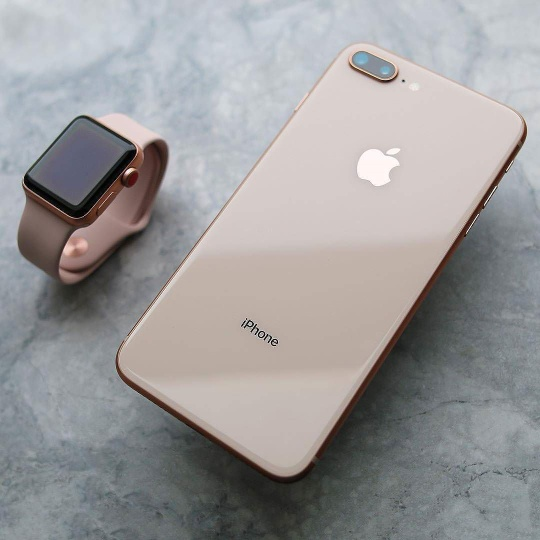apple: (348, 141, 417, 194)
